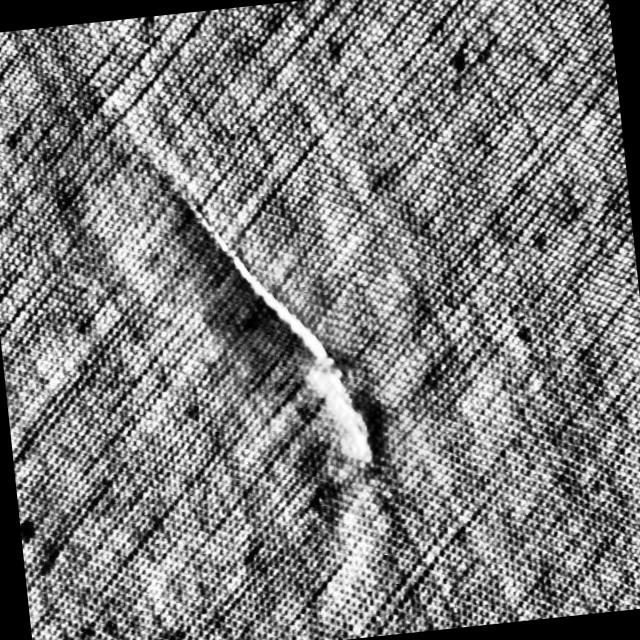selvet: (170, 155, 382, 491)
